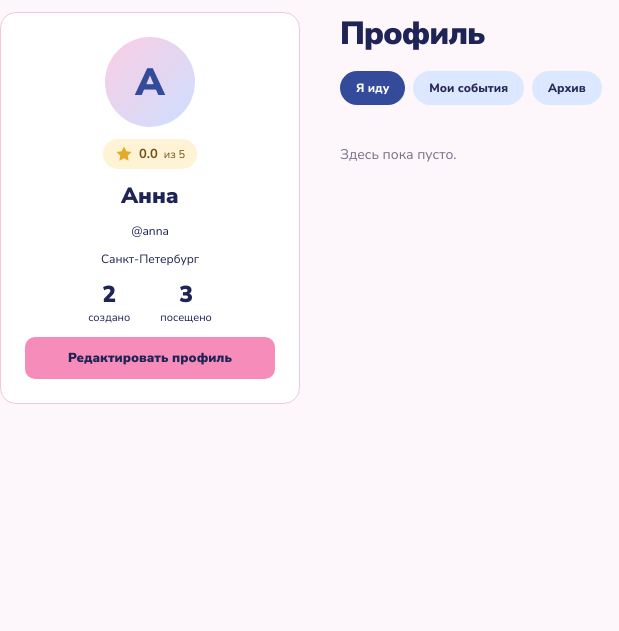
не показывает интересы и «Настолки» в своём профиле и его редакторе
Expected: the element with class "summary" shows "@anna", [131,223,169,239]
Expected: the element with class "summary" shows "создано", [88,310,130,325]
What coordinates should you click on to do the following:
click the button "Редактировать профиль"
I would click on:
 (150, 358)
Its box is [25,337,275,379].
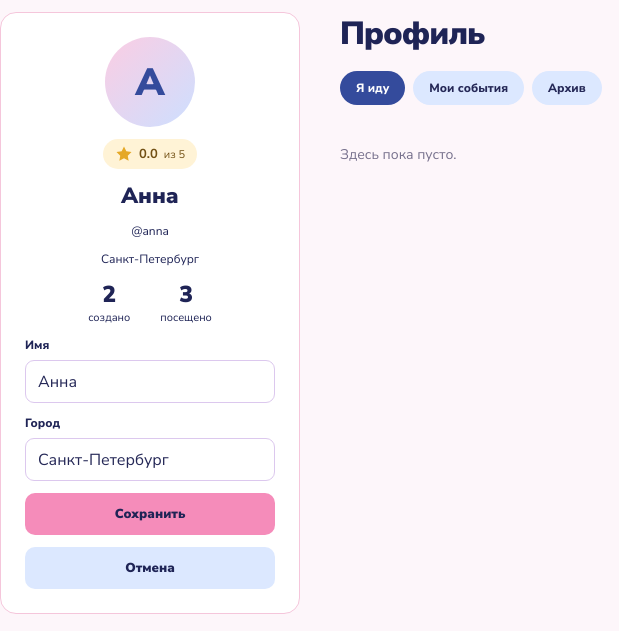
Now the number of fields is 2, box [25,360,275,403]; [25,438,275,481]
